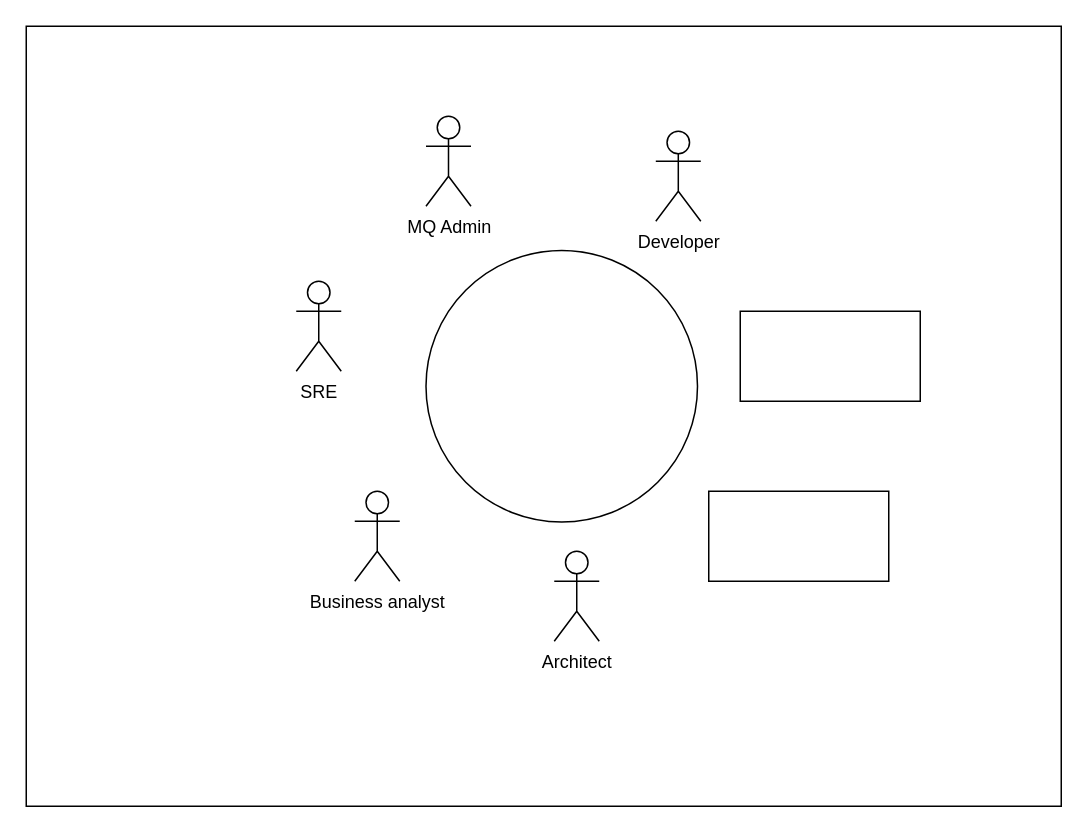
Some shapes in this 1088 by 833 pixel diagram are drawn without their labels. The centre of each missing label's shape, as x and y in pixels:
Cloud native MQ deployment: (561,385)
MQ application: (829,355)
MQ-enabled systems of Record: (798,535)
